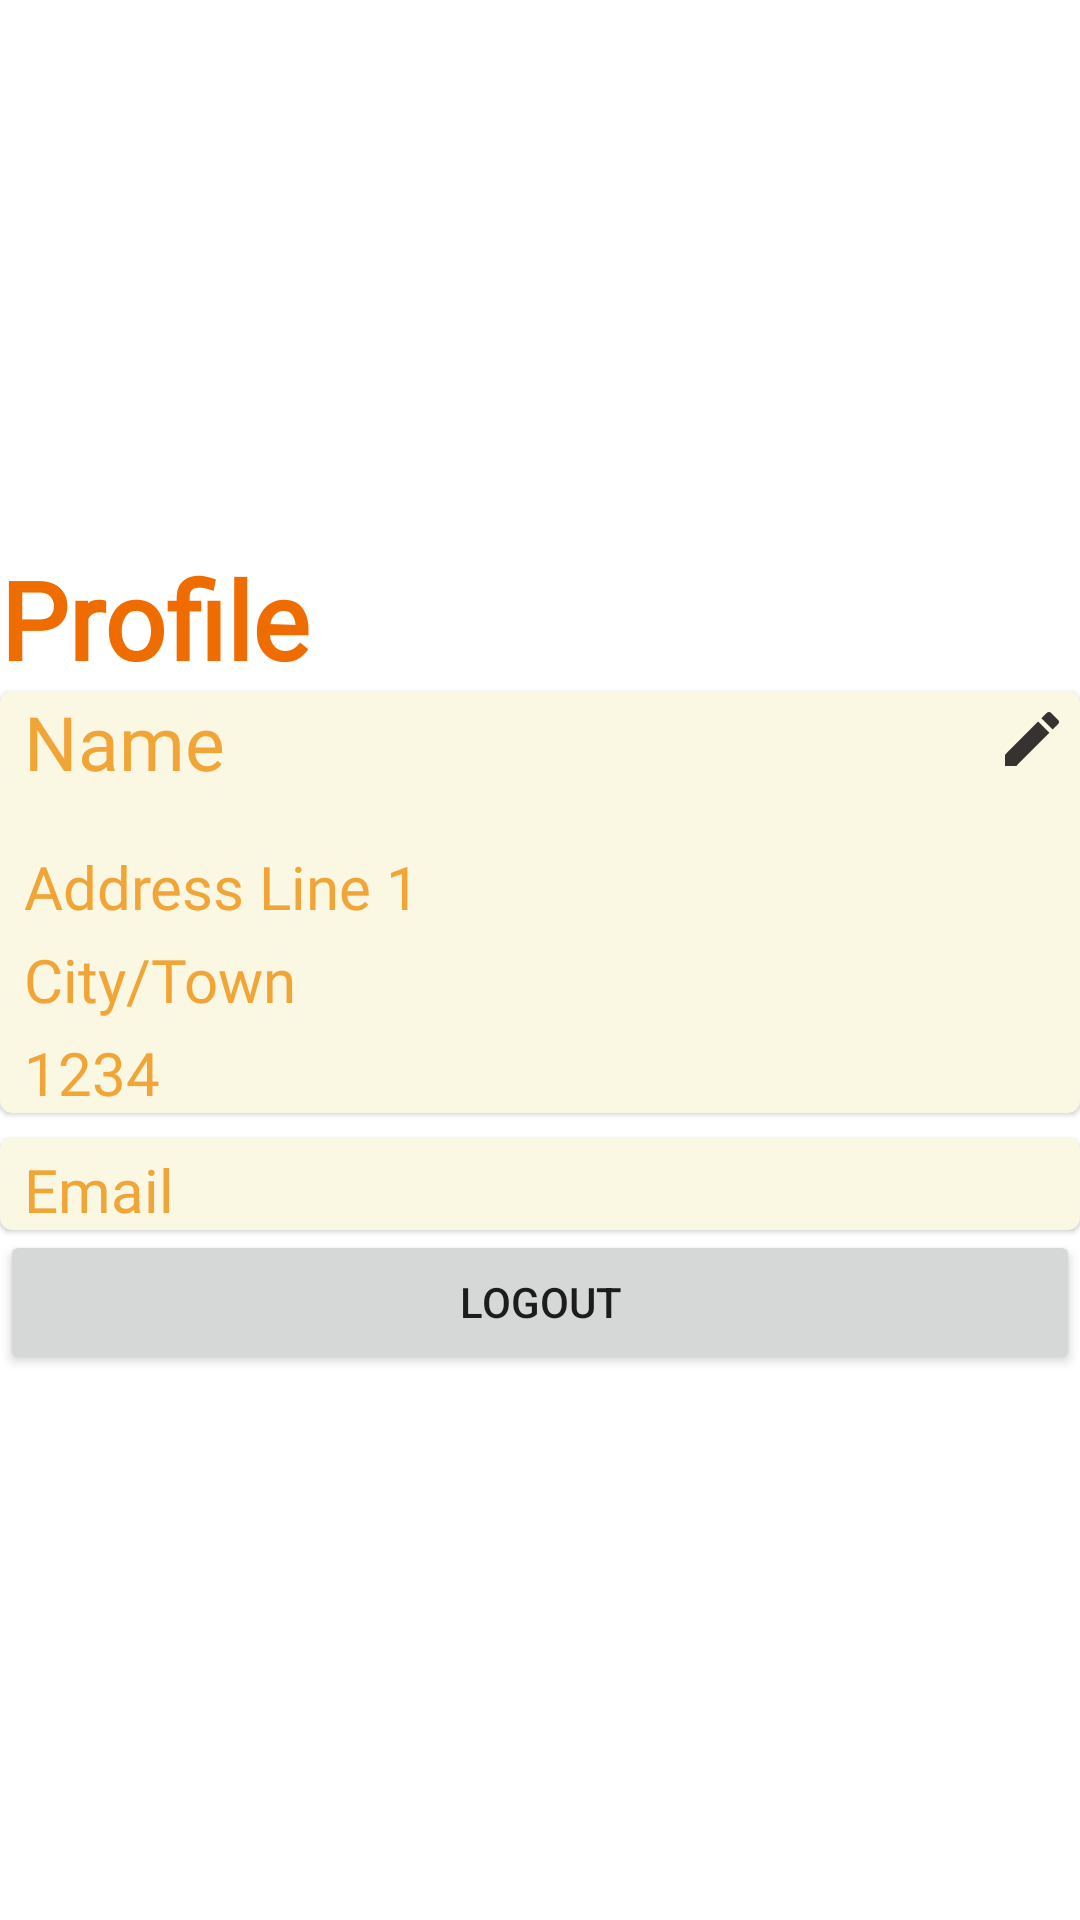

Screen size 1080px x 1920px. Icon name, then its box in pixels as (x1=x1, y1=y1, x2=x2, y2=y2):
edit: (x1=1005, y1=712, x2=1059, y2=766)
